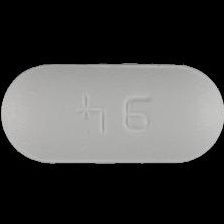68788-9228: (0, 0, 224, 224)
